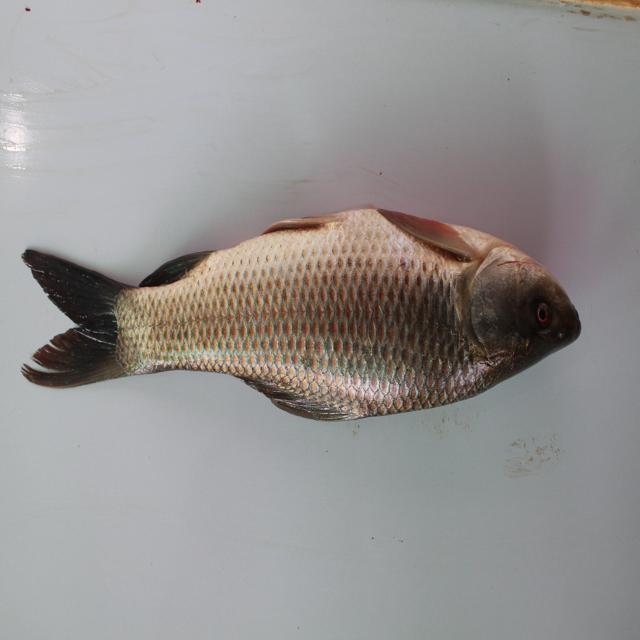Rohu: (16, 214, 590, 416)
